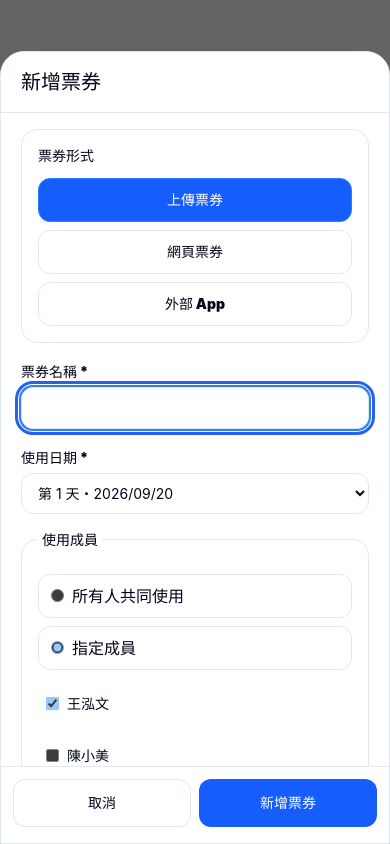
TicketEditorModal progressive form › EDITOR-03 switches among all three ticket types
The width and height of the screenshot is (390, 844).
Click the button with test id "ticket-type-web-link": (195, 252) left=38, top=230, right=352, bottom=274
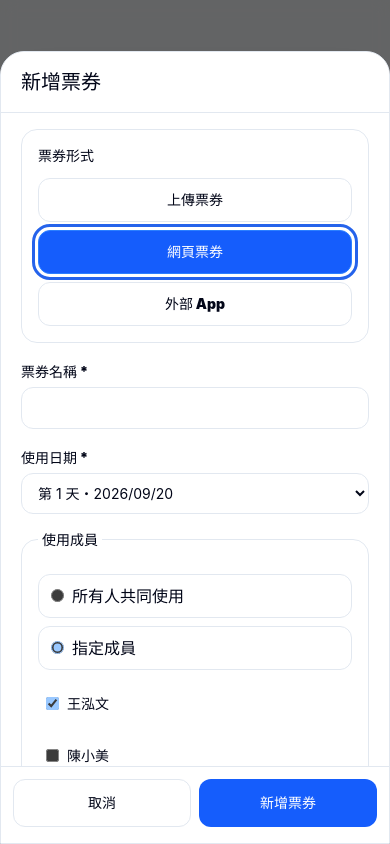
Click the button with test id "ticket-type-external-app": (195, 304) left=38, top=282, right=352, bottom=326
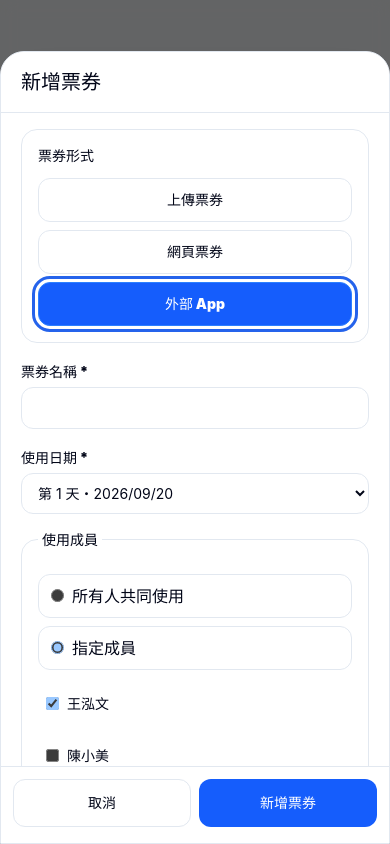
Click the button with test id "ticket-type-attachment": (195, 200) left=38, top=178, right=352, bottom=222
(page scrolled)
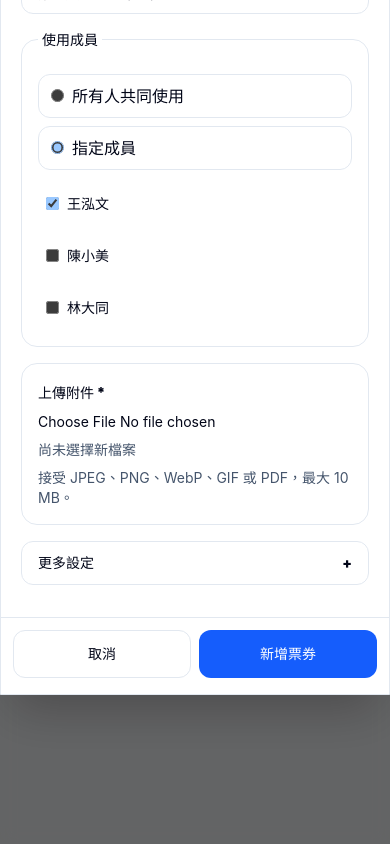
Expected: the file field with test id "ticket-file-input" is shown, left=38, top=412, right=352, bottom=432
